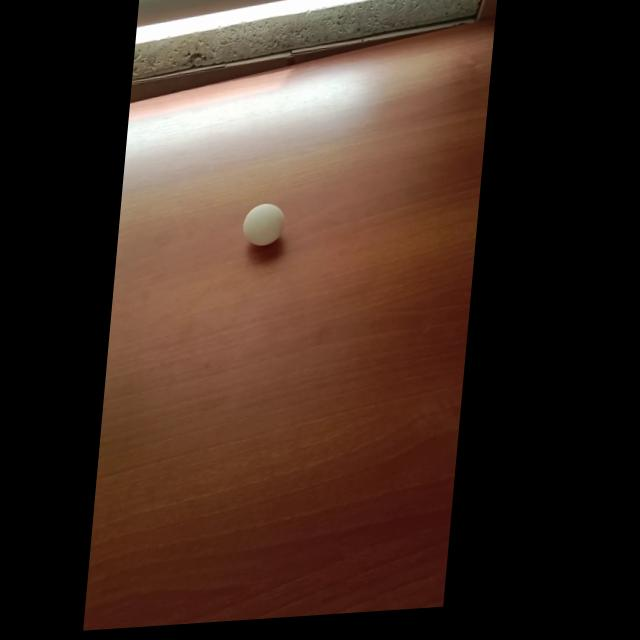white ball: (240, 201, 286, 247)
